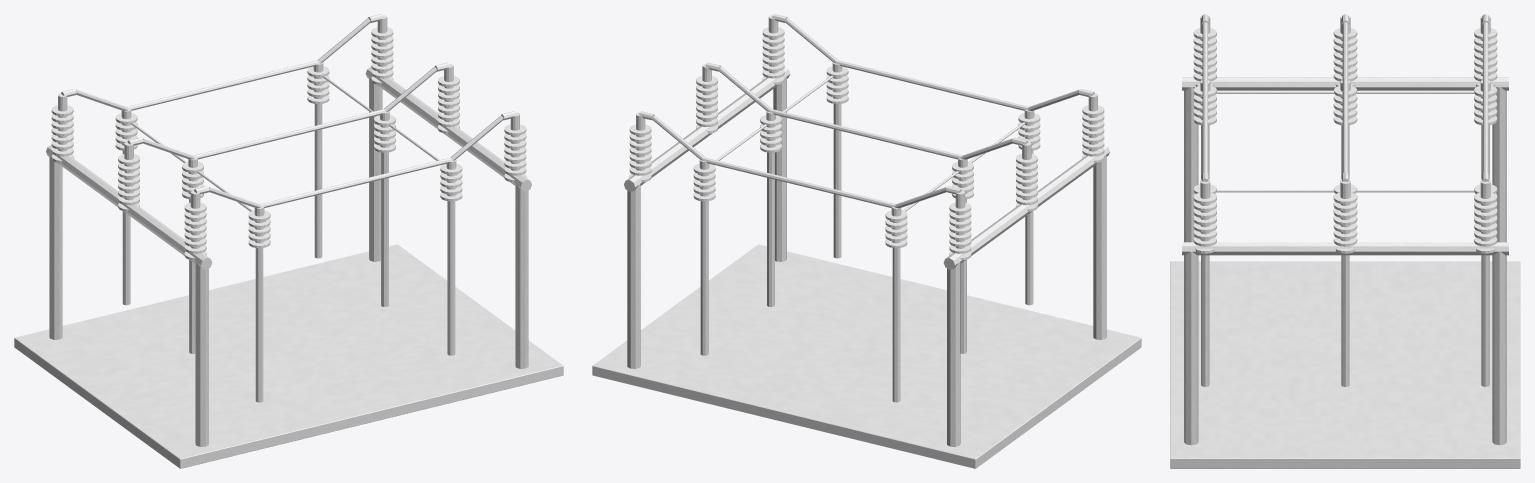
File: substationdisconnect69.obj
3 views of the same model, side by side, from view 1: azimuth 30°, elevation 25°; view 2: azimuth 150°, elevation 25°; view 3: azimuth 270°, elevation 25° (orthographic). The views are drawn at different scales.
Visible parts, largest first — view 1: main, Porcelain, Bus, KnifeOut, KnifeIn; view 2: main, Porcelain, Bus, KnifeOut, KnifeIn; view 3: main, Porcelain, Bus, KnifeIn.
Boxes of the visible parts, left/top/right/bottom form: main: left=14, top=67, right=563, bottom=468; Porcelain: left=51, top=15, right=526, bottom=260; Bus: left=61, top=14, right=516, bottom=207; KnifeOut: left=317, top=18, right=503, bottom=160; KnifeIn: left=76, top=89, right=260, bottom=208; main: left=592, top=67, right=1141, bottom=468; Porcelain: left=629, top=15, right=1104, bottom=260; Bus: left=639, top=14, right=1094, bottom=207; KnifeOut: left=652, top=18, right=838, bottom=160; KnifeIn: left=895, top=89, right=1079, bottom=208; main: left=1170, top=77, right=1520, bottom=468; Porcelain: left=1193, top=15, right=1497, bottom=253; Bus: left=1201, top=14, right=1489, bottom=181; KnifeIn: left=1202, top=22, right=1488, bottom=81.
Size of the model in its own units: 6 by 3.88 by 4.5.
